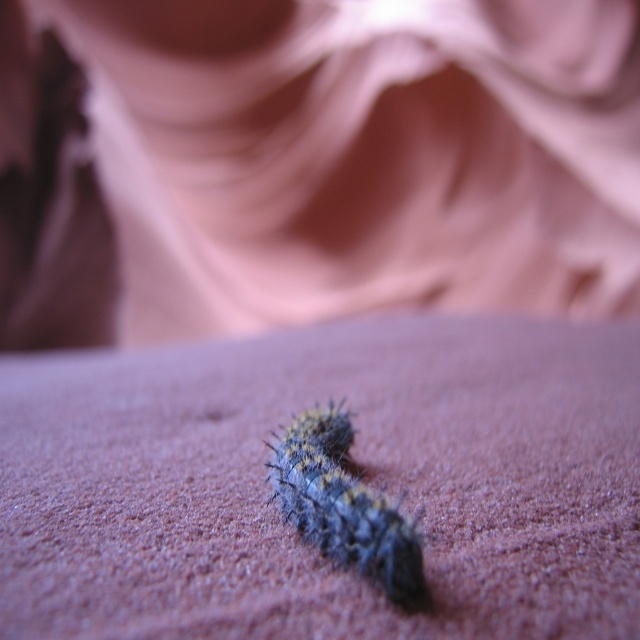Caterpillar: (262, 382, 437, 620)
